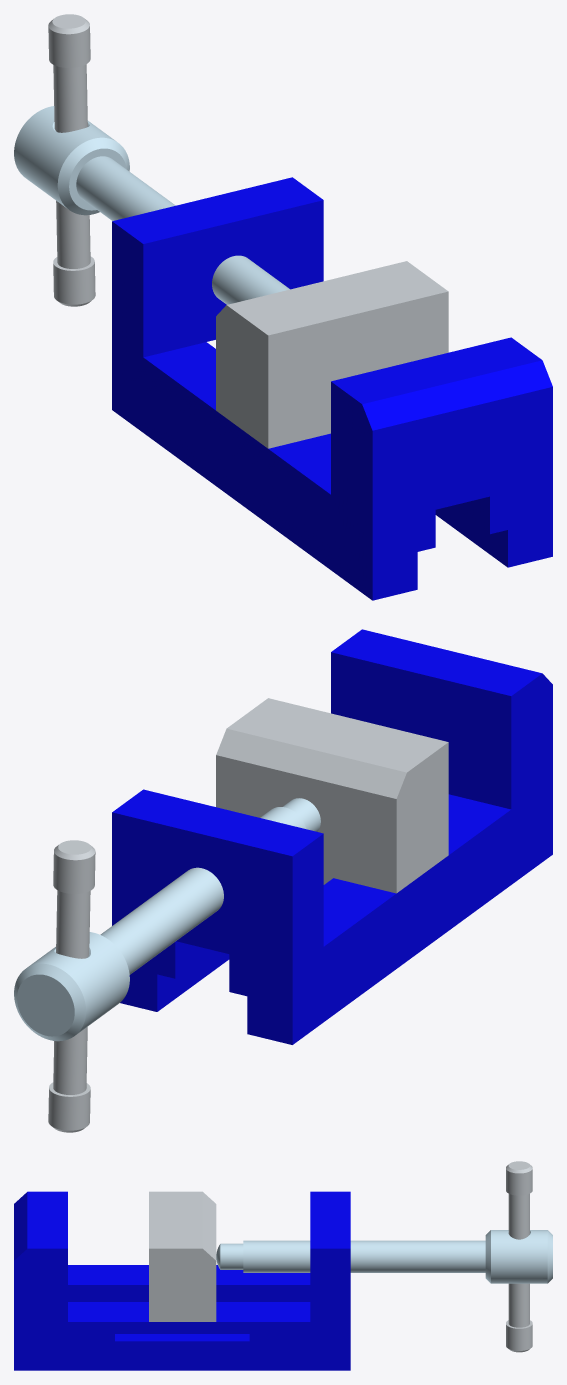
The model's file is Seven Part Assembly.gltf.
3 renders of one model, top to bottom at view 1: azimuth 30°, elevation 25°; view 2: azimuth 150°, elevation 25°; view 3: azimuth 270°, elevation 25°, orthographic. The views are drawn at different scales.
Parts seen in each view (by area): view 1: mesh37_mesh_11, mesh37_mesh_17, mesh37_mesh_2, mesh22_mesh_10, mesh22_mesh_13, mesh22_mesh_11, mesh37_mesh_8, mesh37_mesh_3, mesh64_mesh_14, mesh37_mesh_10, mesh37_mesh_5, mesh64_mesh_3 (+9 smaller); view 2: mesh37_mesh_11, mesh37_mesh_16, mesh37_mesh_7, mesh22_mesh_9, mesh22_mesh_13, mesh22_mesh_11, mesh64_mesh_14, mesh37_mesh_3, mesh37_mesh_8, mesh22_mesh_14, mesh37_mesh_5, mesh64_mesh_3 (+11 smaller); view 3: mesh37_mesh_21, mesh22_mesh_12, mesh64_mesh_14, mesh37_mesh_4, mesh22_mesh_13, mesh37_mesh_12, mesh37_mesh_5, mesh37_mesh_3, mesh37_mesh_8, mesh64_mesh_15, mesh64_mesh_3, mesh0_mesh_7 (+8 smaller).
Part boxes in pixels (<box>): mesh37_mesh_11: <box>112,221,372,600</box>; mesh37_mesh_17: <box>372,387,552,600</box>; mesh37_mesh_2: <box>143,200,323,357</box>; mesh22_mesh_10: <box>268,291,448,448</box>; mesh22_mesh_13: <box>227,261,448,335</box>; mesh22_mesh_11: <box>216,305,268,448</box>; mesh37_mesh_8: <box>331,337,541,404</box>; mesh37_mesh_3: <box>112,177,323,243</box>; mesh64_mesh_14: <box>76,156,289,302</box>; mesh37_mesh_10: <box>362,360,552,430</box>; mesh37_mesh_5: <box>143,342,330,494</box>; mesh64_mesh_3: <box>14,106,116,185</box>; mesh37_mesh_11: <box>292,673,552,1044</box>; mesh37_mesh_16: <box>112,812,292,1044</box>; mesh37_mesh_7: <box>331,652,511,809</box>; mesh22_mesh_9: <box>216,755,396,893</box>; mesh22_mesh_13: <box>227,698,448,772</box>; mesh22_mesh_11: <box>396,742,448,892</box>; mesh64_mesh_14: <box>100,807,306,966</box>; mesh37_mesh_3: <box>112,789,323,856</box>; mesh37_mesh_8: <box>331,629,541,695</box>; mesh22_mesh_14: <box>216,728,406,798</box>; mesh37_mesh_5: <box>323,794,510,946</box>; mesh64_mesh_3: <box>27,932,129,1011</box>; mesh37_mesh_21: <box>14,1248,350,1370</box>; mesh22_mesh_12: <box>149,1248,216,1321</box>; mesh64_mesh_14: <box>243,1240,485,1263</box>; mesh37_mesh_4: <box>68,1302,310,1321</box>; mesh22_mesh_13: <box>149,1191,202,1248</box>; mesh37_mesh_12: <box>68,1285,310,1301</box>; mesh37_mesh_5: <box>68,1265,310,1284</box>; mesh37_mesh_3: <box>310,1191,350,1248</box>; mesh37_mesh_8: <box>27,1191,67,1248</box>; mesh64_mesh_15: <box>243,1263,485,1272</box>; mesh64_mesh_3: <box>491,1230,547,1267</box>; mesh0_mesh_7: <box>508,1193,529,1327</box>.
Size of the model in its own units: 0.05 by 0.0742 by 0.2001.
